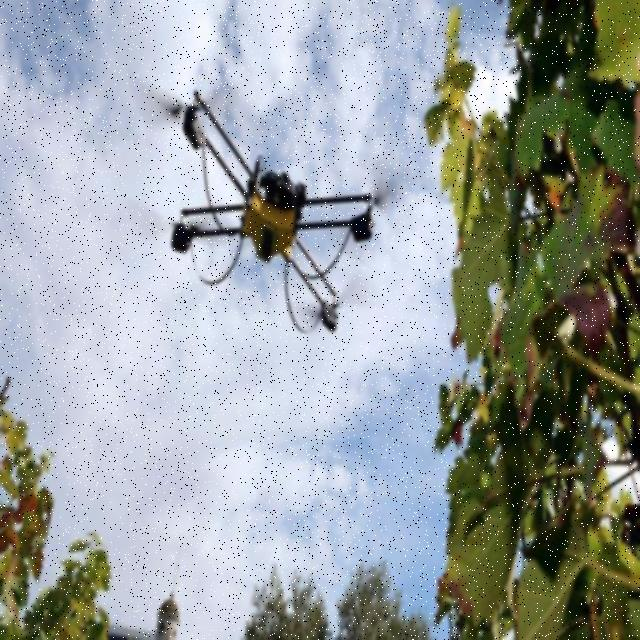UAV: (170, 85, 378, 338)
